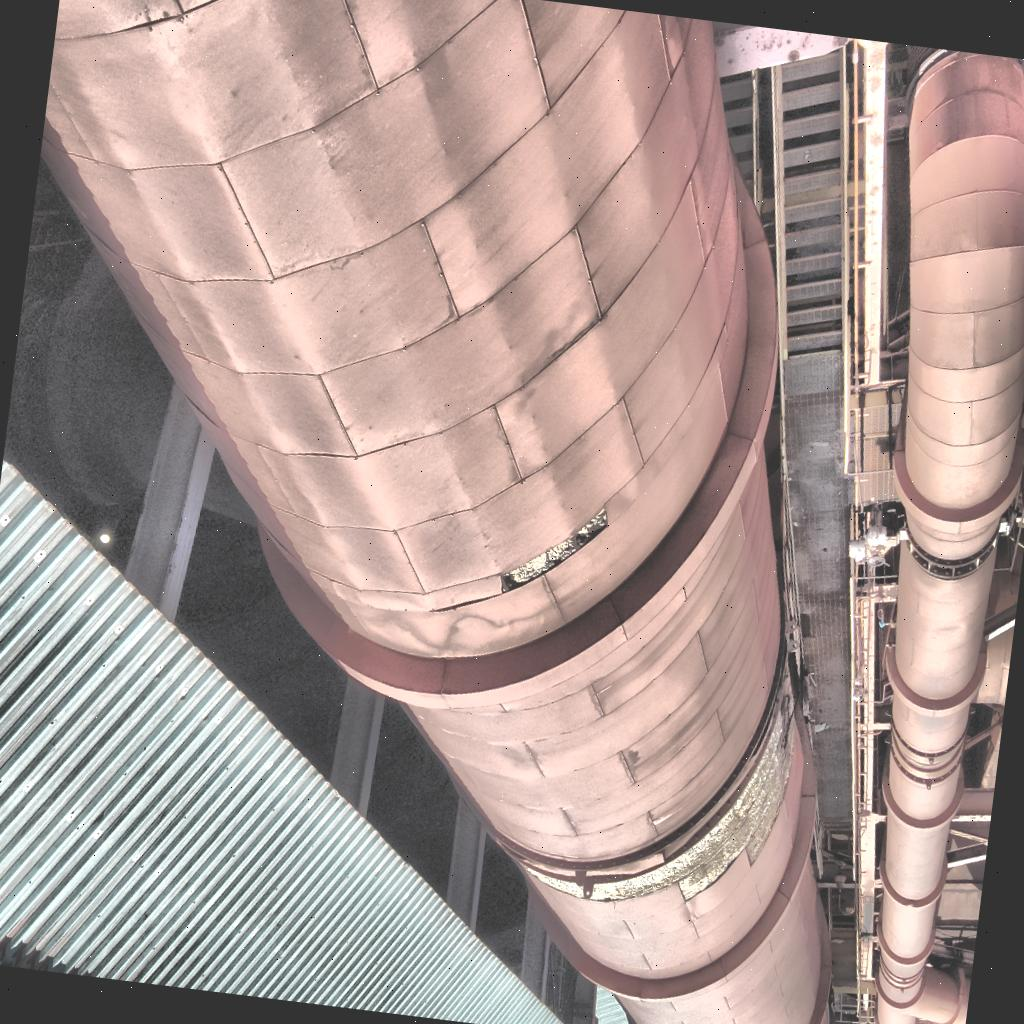Failures: (492, 624, 842, 969), (481, 461, 626, 639)
